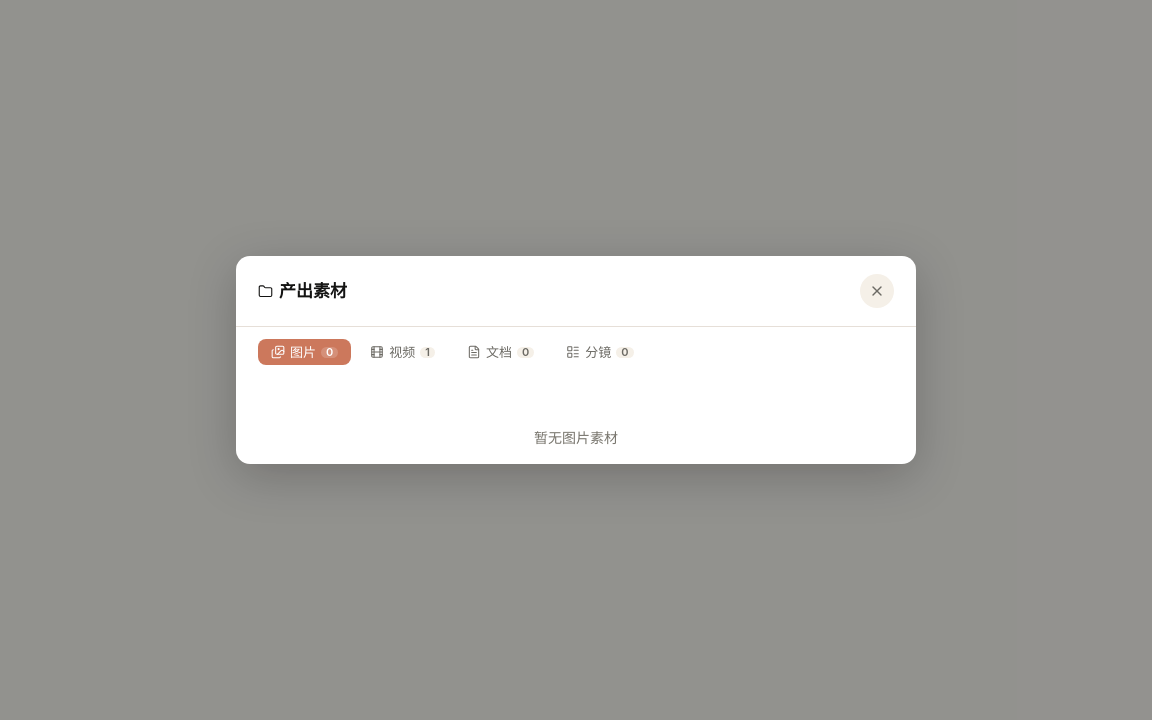
Test: AgentAssetsPanel asset tiles › renders video tiles under the video tab with the same menu
Click the button "视频 1".
click(403, 352)  # box [357,339,448,365]
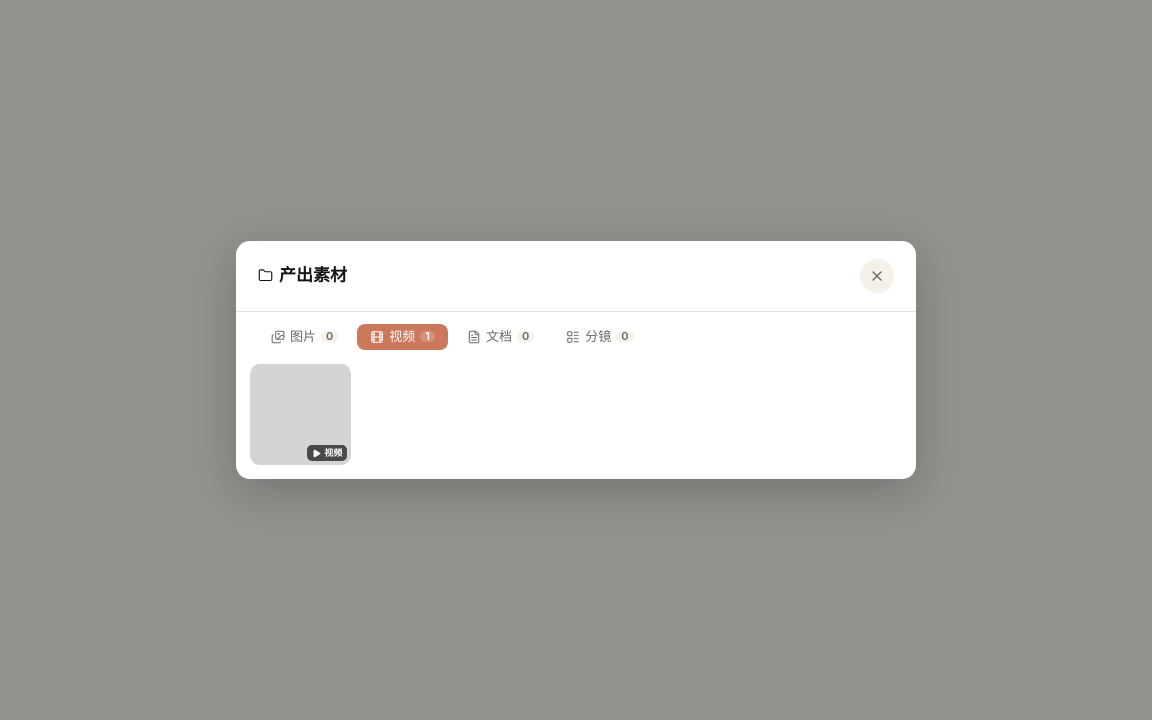
Right-click the button with class "is-media".
right_click(301, 414)  # box [250,364,351,465]
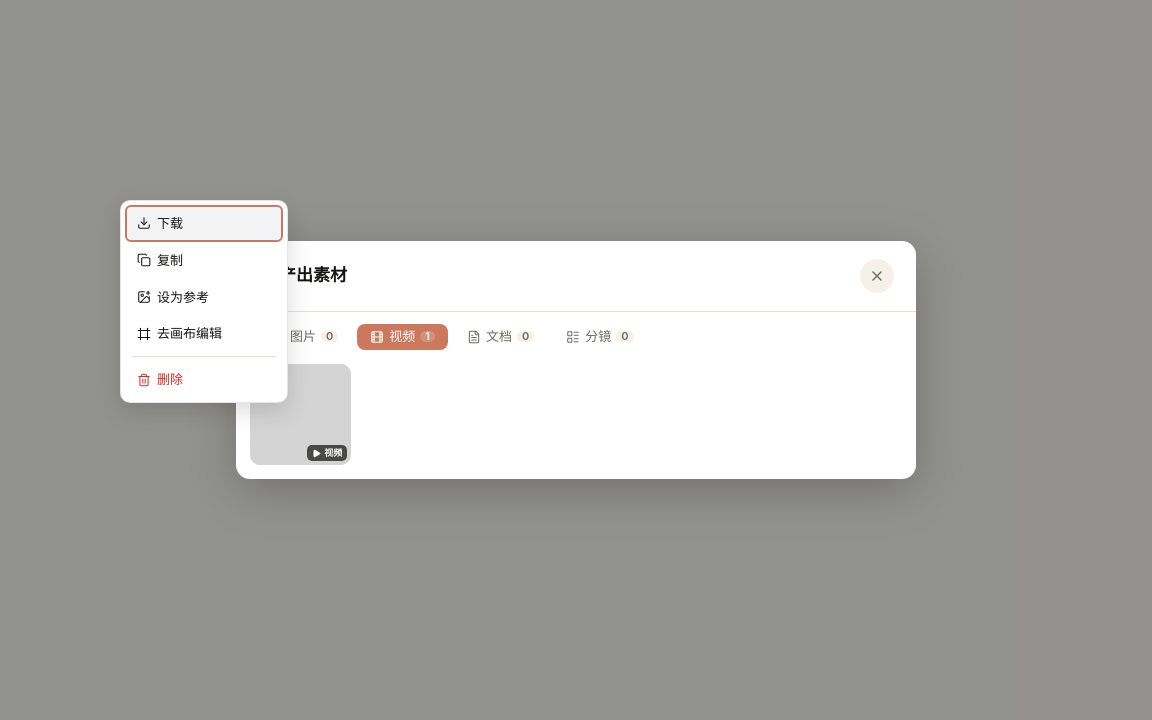
Now the button "去画布编辑" is shown, box [125,315,283,352]
Now the button "删除" is shown, box [125,361,283,398]
